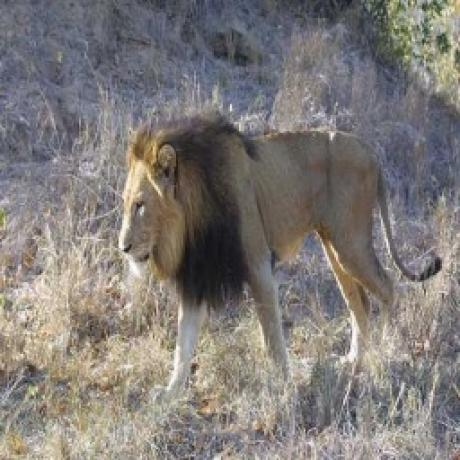Lion: (119, 104, 448, 382)
